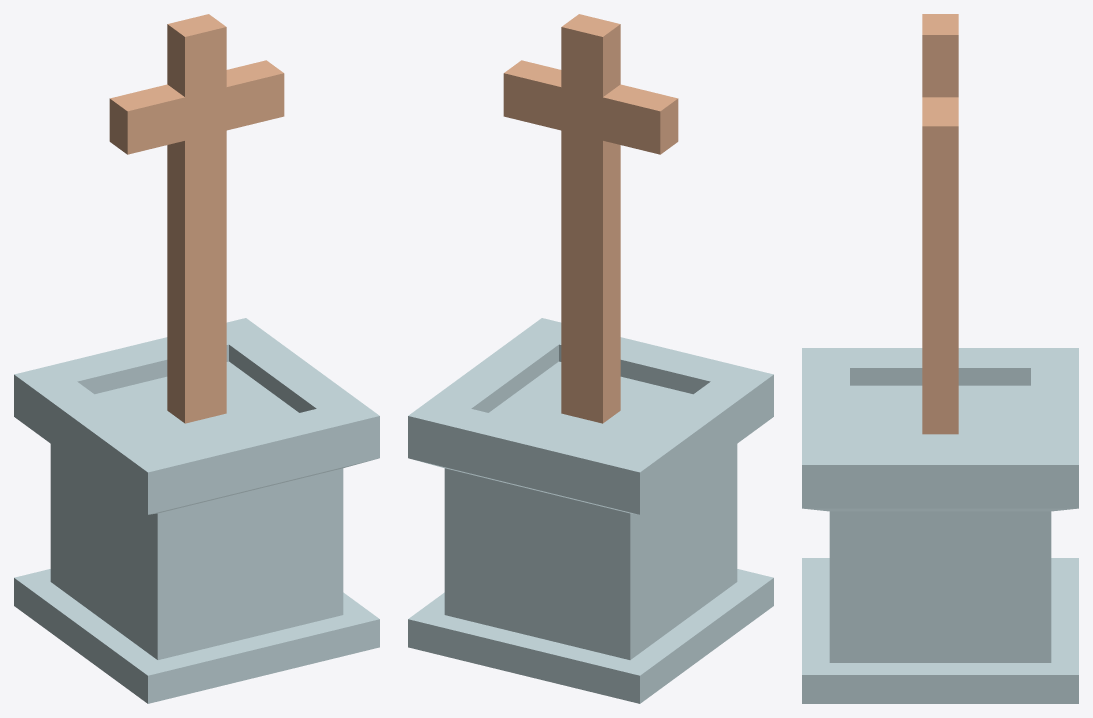
Rendered from crossWood.glb.
3 renders of one model, left to right at view 1: azimuth 30°, elevation 25°; view 2: azimuth 150°, elevation 25°; view 3: azimuth 270°, elevation 25°, orthographic. The views are drawn at different scales.
Visible parts, largest first — view 1: crossWood; view 2: crossWood; view 3: crossWood.
Boxes of the visible parts, bbox=[...] form: crossWood: bbox=[14, 14, 379, 703]; crossWood: bbox=[408, 14, 773, 703]; crossWood: bbox=[802, 14, 1078, 703].
Bounding box in the file's own units: 0.43 × 1.06 × 0.43.
